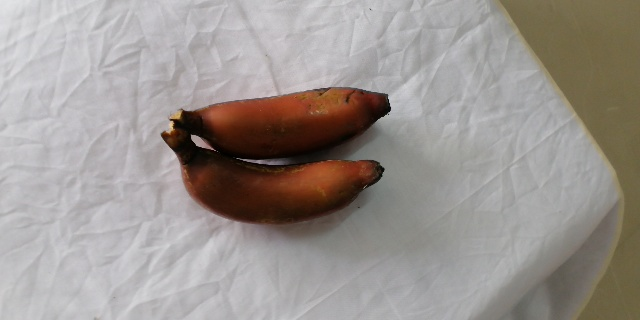banana_red: (160, 132, 386, 223), (171, 86, 393, 153)
